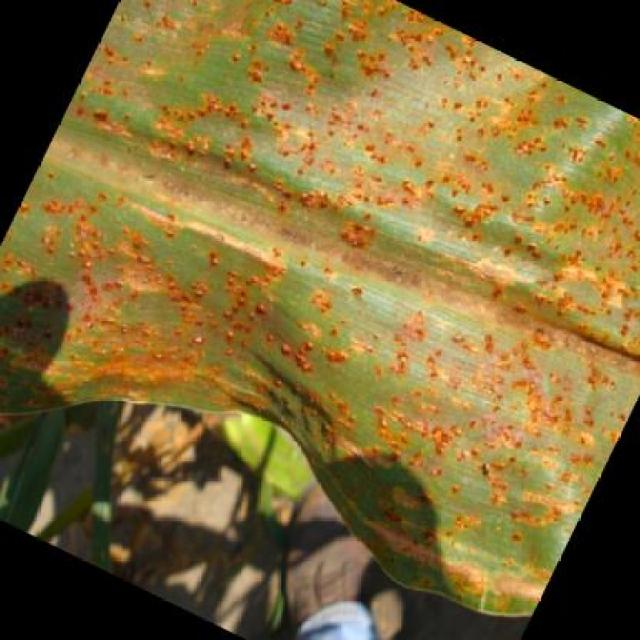Corn_Rust: (82, 86, 572, 546)
